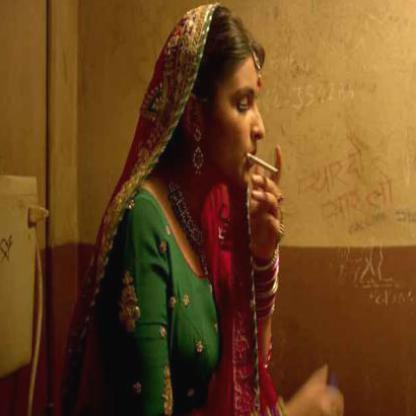cigarette: (248, 152, 278, 174)
person: (79, 9, 276, 415)
